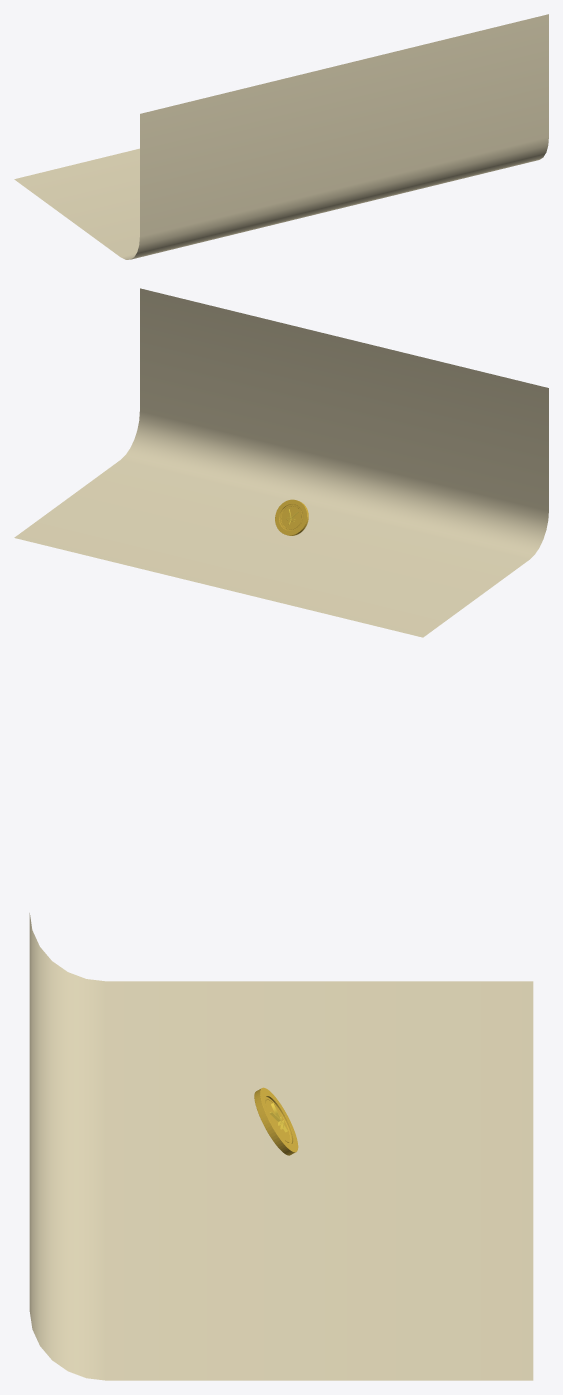
File: coin3.fbx
3 renders of one model, top to bottom at view 1: azimuth 30°, elevation 25°; view 2: azimuth 150°, elevation 25°; view 3: azimuth 270°, elevation 25°, orthographic. The views are drawn at different scales.
Visible parts, largest first — view 1: Plane; view 2: Plane, Circle; view 3: Plane, Circle.
Part boxes in pixels (left/top/right/bottom): Plane: left=14, top=14, right=548, bottom=259; Plane: left=14, top=288, right=548, bottom=637; Circle: left=275, top=499, right=308, bottom=535; Plane: left=29, top=913, right=533, bottom=1380; Circle: left=254, top=1087, right=298, bottom=1155.
Size of the model in its own units: 2585 by 951 by 1377.
